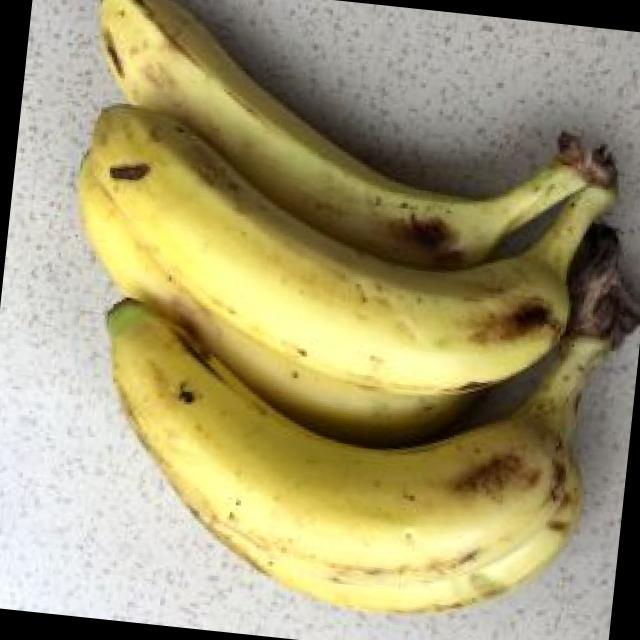banana: (155, 180, 579, 578)
